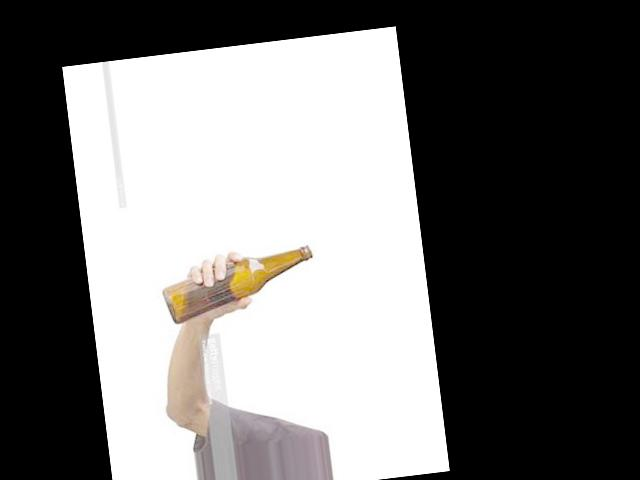beer: (159, 245, 318, 326)
